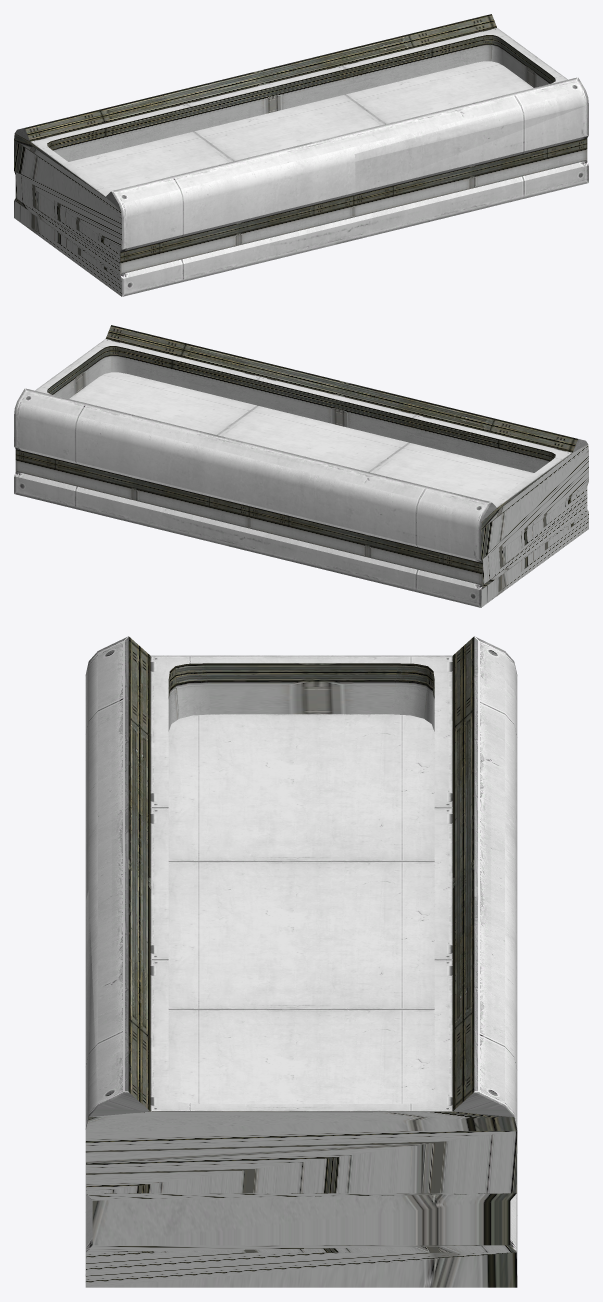
File: Emb_BalconyPlanter_01.FBX
3 renders of one model, top to bottom at view 1: azimuth 30°, elevation 25°; view 2: azimuth 150°, elevation 25°; view 3: azimuth 270°, elevation 25°, orthographic. The views are drawn at different scales.
Visible parts, largest first — view 1: Emb_BalconyPlanter_01; view 2: Emb_BalconyPlanter_01; view 3: Emb_BalconyPlanter_01.
Boxes of the visible parts, x1,y1,x2,y2 form: Emb_BalconyPlanter_01: (14,14,588,296); Emb_BalconyPlanter_01: (14,325,588,607); Emb_BalconyPlanter_01: (85,636,517,1287).
Size of the model in its own units: 5 by 1 by 2.
